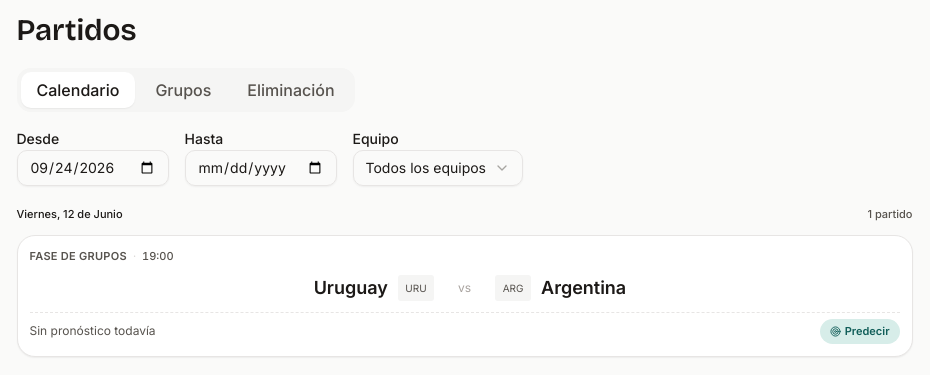
FixturePage › shows the placeholder on the Grupos tab
The image size is (930, 375).
Click the tab "Grupos" at (183, 90), box [139,72,227,108]
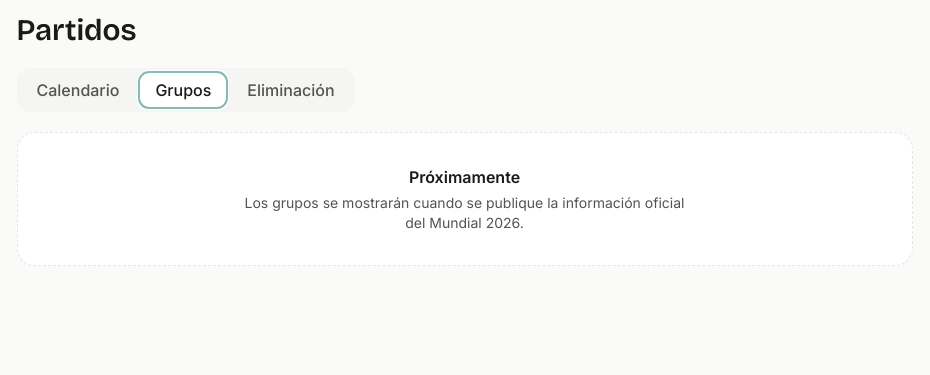
Check: the text "Los grupos se mostrarán cuando se publique" is shown, box [245,194,684,231]
